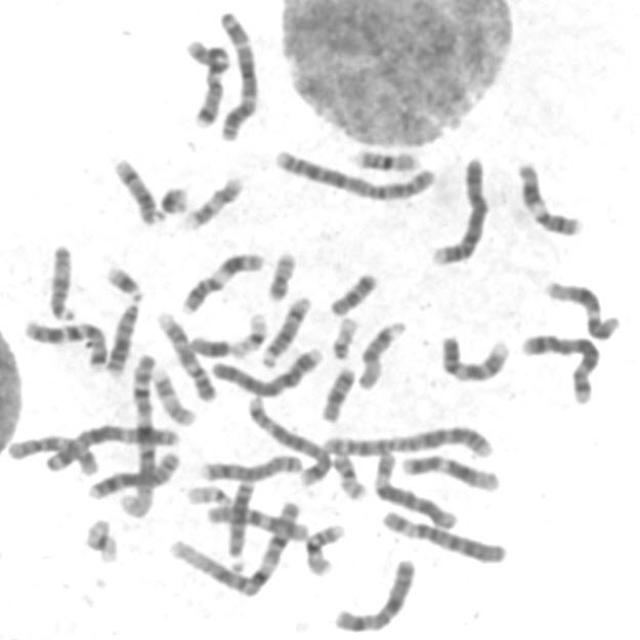A1: (164, 495, 303, 598), (118, 349, 161, 519)
A2: (266, 140, 439, 204), (316, 418, 497, 459)
A3: (37, 418, 183, 474), (211, 3, 262, 142)
B4: (425, 148, 491, 267), (204, 338, 326, 398)
B5: (242, 387, 335, 487), (515, 326, 602, 406)
C10: (200, 497, 310, 544), (2, 428, 100, 476)
C11: (174, 244, 266, 316), (510, 154, 586, 238)
C12: (538, 273, 622, 342), (395, 446, 503, 494)
C6: (375, 502, 510, 566), (366, 444, 459, 530)
C7: (18, 312, 110, 372), (180, 32, 232, 130)
C8: (82, 444, 183, 502), (195, 447, 305, 483)
C9: (151, 304, 218, 403), (434, 326, 512, 384)
D13: (222, 473, 259, 569), (100, 293, 142, 377)
D14: (255, 288, 313, 369), (105, 149, 165, 226)
D15: (351, 314, 409, 392), (41, 236, 78, 324)
E16: (298, 516, 347, 577), (345, 141, 424, 173)
E17: (176, 168, 246, 232), (146, 361, 198, 427)
E18: (322, 264, 381, 318), (314, 359, 358, 424)
F19: (77, 510, 122, 565), (227, 305, 270, 358)
F20: (324, 445, 368, 502), (260, 244, 299, 302)
G21: (98, 256, 146, 302), (152, 178, 192, 216)
G22: (324, 308, 360, 361), (180, 478, 232, 507)
X: (326, 551, 418, 635)
Y: (184, 329, 236, 359)
